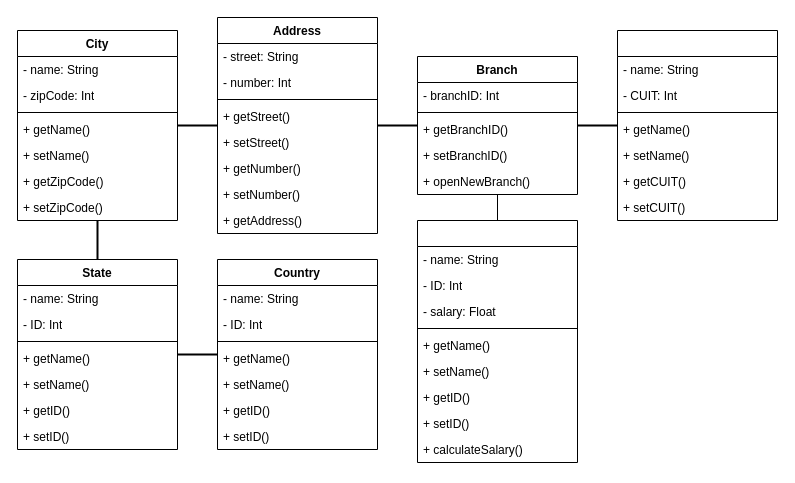
Image size: 795x483. Some labels were removed from this diagram. Here are the shapes that lost their labels. From the top down, the box of each, then its label:
(616, 30, 778, 220): Company
(416, 220, 578, 462): Employee
